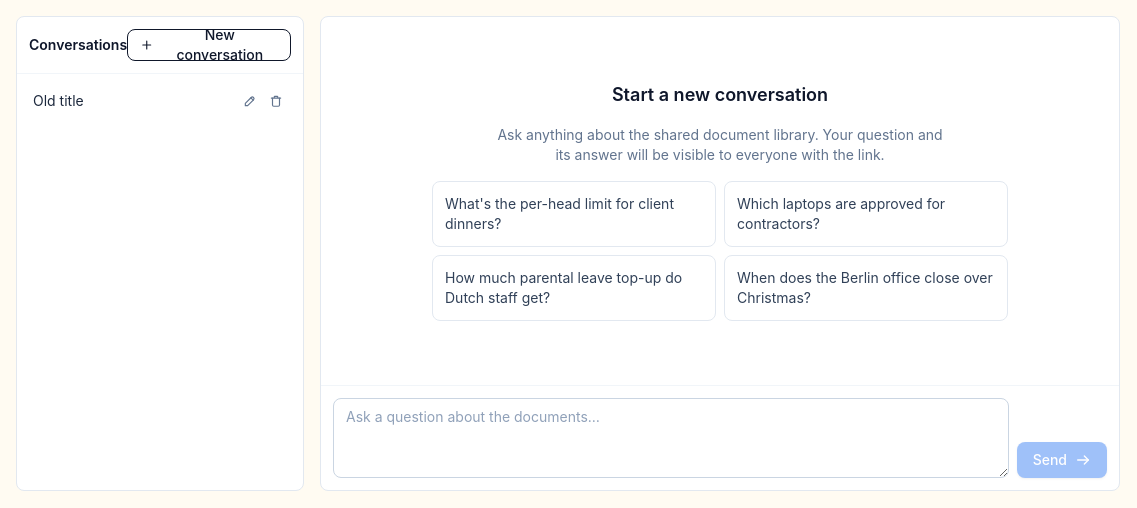
Test: Chat screen — live threads API › renames a thread inline and reflects the stored value after refetch
Expected: the button "Old title" is shown, [33,91,235,111]
Click the button named "Rename Old title" at (250, 101), box [239,90,261,112]
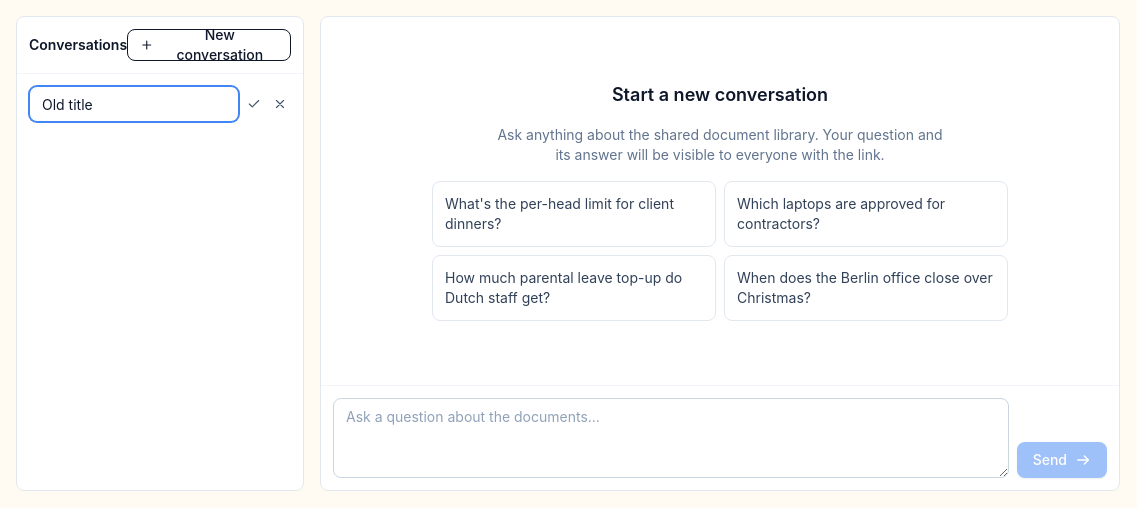
Replace the text in the field named "Conversation title" with "New title" at (134, 104), box [29,86,239,122]
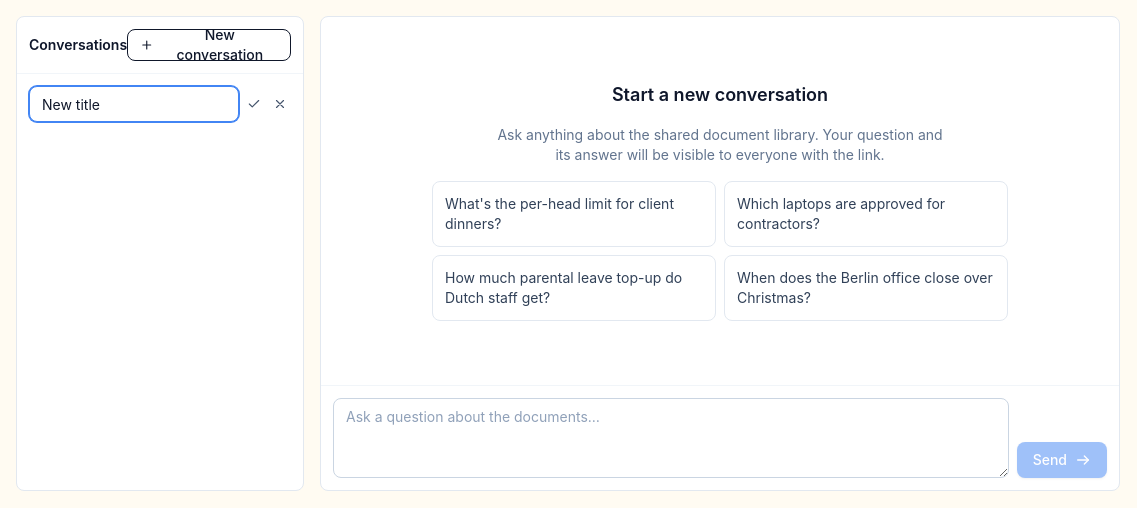
Click the button named "Save title" at (254, 104), box [243,93,265,115]
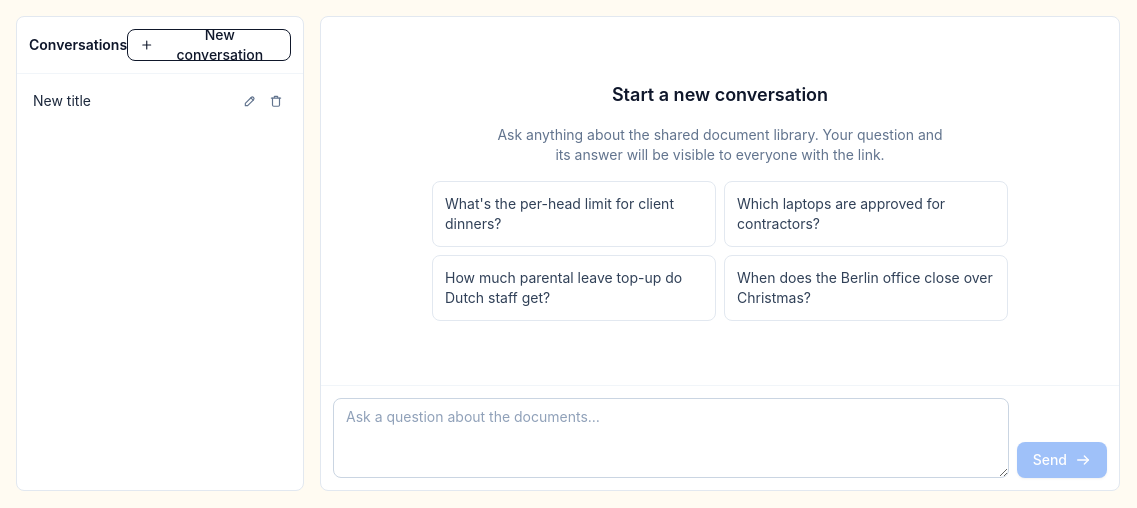
Result: the button "New title" is shown at [33,91,235,111]
